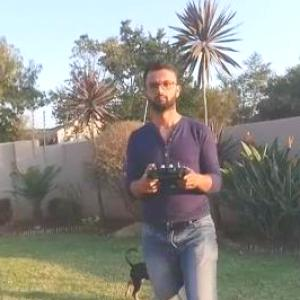follow: (130, 57, 230, 299)
